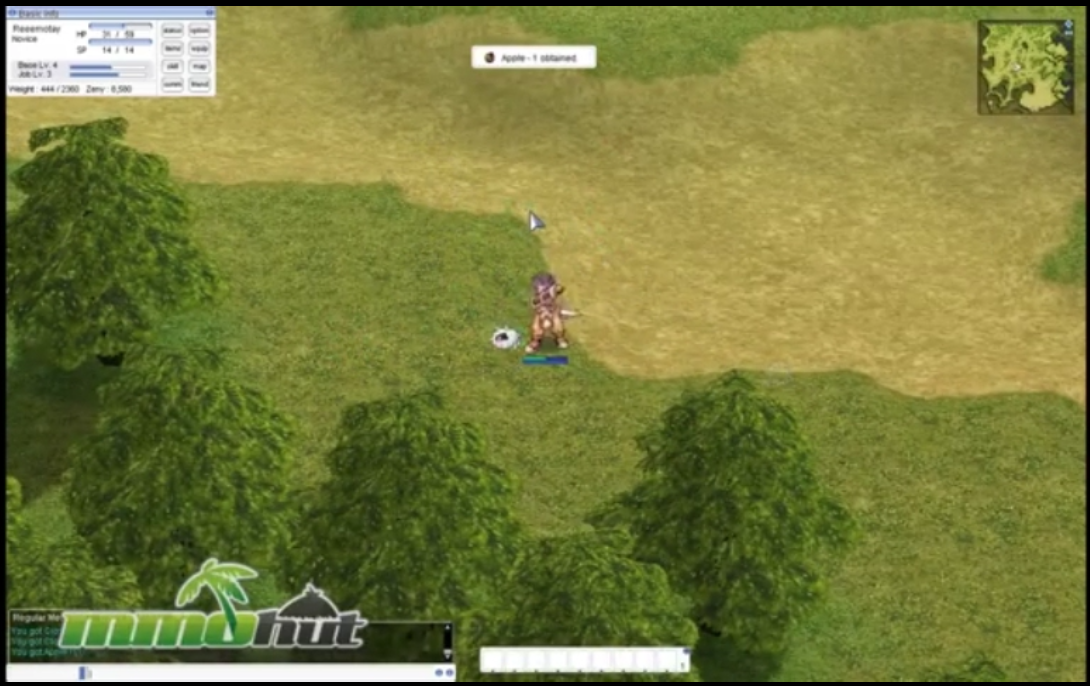lunatic: (490, 323, 522, 351)
